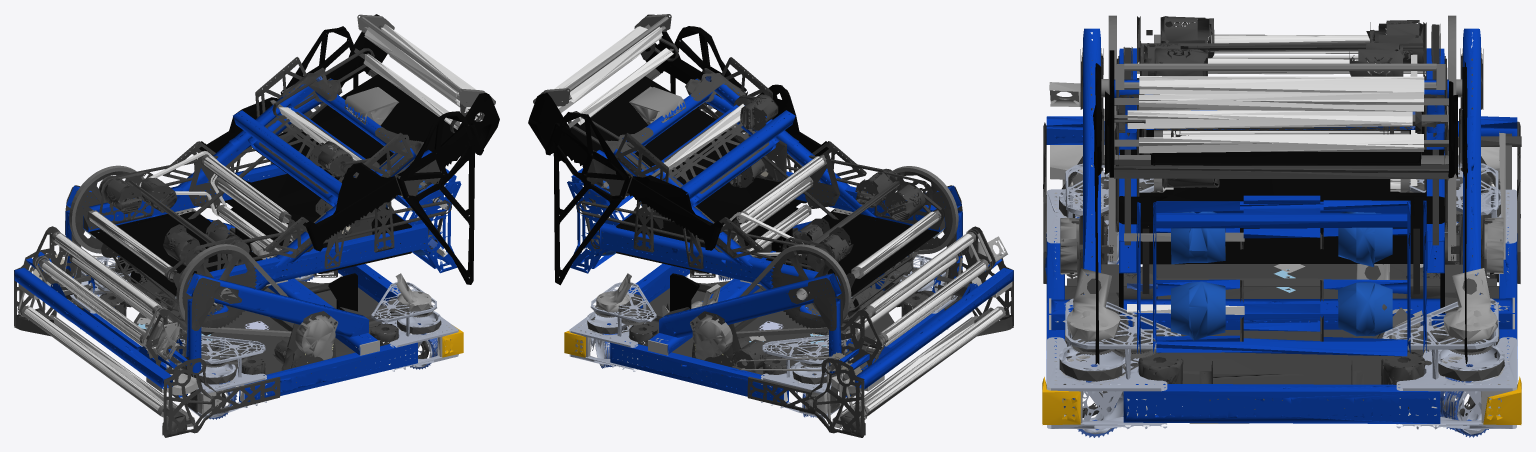
3 renders of one model, left to right at view 1: azimuth 30°, elevation 25°; view 2: azimuth 150°, elevation 25°; view 3: azimuth 270°, elevation 25°, orthographic. The views are drawn at different scales.
Visible parts, largest first — view 1: pivot.mat_11, body.mat_1, body.mat_0, pivot.mat_0, pivot.mat_1, pivot.mat_36, body.mat_36, pivot.mat_16, body.mat_43, body.mat_33, pivot.mat_33, pivot.mat_10 (+12 smaller); view 2: pivot.mat_11, body.mat_1, body.mat_0, pivot.mat_0, pivot.mat_1, pivot.mat_36, body.mat_36, pivot.mat_16, body.mat_43, body.mat_33, pivot.mat_33, body.mat_59 (+12 smaller); view 3: body.mat_0, body.mat_1, pivot.mat_36, pivot.mat_0, pivot.mat_11, body.mat_43, pivot.mat_4, pivot.mat_1, body.mat_42, body.mat_6, pivot.mat_16, body.mat_38 (+14 smaller).
Part boxes in pixels (box(x1,y1,x2,y2)): pivot.mat_11: box(89, 14, 499, 295); body.mat_1: box(14, 57, 423, 437); body.mat_0: box(14, 84, 417, 402); pivot.mat_0: box(83, 78, 461, 285); pivot.mat_1: box(75, 67, 466, 328); pivot.mat_36: box(89, 24, 484, 275); body.mat_36: box(24, 233, 184, 412); pivot.mat_16: box(103, 141, 353, 265); body.mat_43: box(74, 256, 440, 417); body.mat_33: box(21, 231, 195, 427); pivot.mat_33: box(87, 14, 495, 278); pivot.mat_10: box(99, 48, 483, 282); pivot.mat_11: box(528, 14, 938, 296); body.mat_1: box(604, 57, 1013, 437); body.mat_0: box(607, 81, 1013, 402); pivot.mat_0: box(567, 78, 945, 285); pivot.mat_1: box(584, 43, 952, 328); pivot.mat_36: box(554, 26, 938, 275); body.mat_36: box(842, 233, 1002, 413); pivot.mat_16: box(729, 94, 925, 262); body.mat_43: box(587, 255, 950, 415); body.mat_33: box(832, 231, 1005, 427); pivot.mat_33: box(533, 14, 941, 278); body.mat_59: box(736, 166, 958, 337); body.mat_0: box(1045, 28, 1517, 423); body.mat_1: box(1043, 48, 1521, 423); pivot.mat_36: box(1127, 35, 1424, 192); pivot.mat_0: box(1114, 48, 1448, 356); pivot.mat_11: box(1093, 50, 1467, 364); body.mat_43: box(1059, 163, 1504, 434); pivot.mat_4: box(1171, 211, 1392, 340); pivot.mat_1: box(1101, 16, 1462, 341); body.mat_42: box(1046, 189, 1516, 429); body.mat_6: box(1049, 82, 1497, 341); pivot.mat_16: box(1144, 16, 1423, 187); body.mat_38: box(1059, 172, 1504, 417).
Size of the model in its own units: 0.9168 by 0.6324 by 0.6733.
